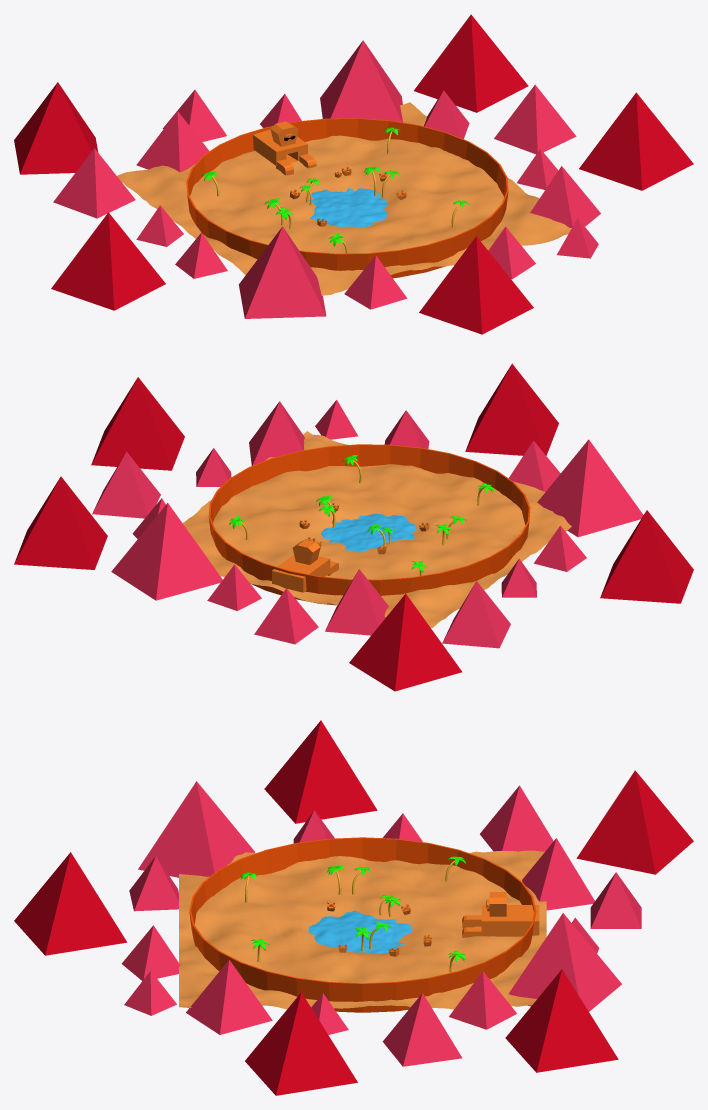
File: Sandparty_Area_Blockout.fbx
3 renders of one model, top to bottom at view 1: azimuth 30°, elevation 25°; view 2: azimuth 150°, elevation 25°; view 3: azimuth 270°, elevation 25°, orthographic. The views are drawn at different scales.
Visible parts, largest first — view 1: SandGrid, CircleFence, Cube.019, Cube.018, Cube.017, Cube.020, Cube.009, Cube.016, Cube.006, Cube.015, Cube.014, WaterGrid (+12 smaller); view 2: SandGrid, CircleFence, Cube.016, Cube.006, Cube.009, Cube.020, Cube.019, Cube.017, Cube.018, Cube.015, Cube.014, Cube.001 (+12 smaller); view 3: SandGrid, CircleFence, Cube.016, Cube.020, Cube.017, Cube.018, Cube.019, Cube.009, Cube.006, Cube.003, Cube.014, WaterGrid (+10 smaller).
Part boxes in pixels (box(x1,y1,x2,y2)): SandGrid: box(117, 102, 571, 295); CircleFence: box(186, 118, 508, 278); Cube.019: box(51, 212, 165, 310); Cube.018: box(419, 236, 533, 334); Cube.017: box(579, 92, 693, 190); Cube.020: box(414, 14, 528, 112); Cube.009: box(239, 226, 326, 318); Cube.016: box(14, 82, 98, 174); Cube.006: box(320, 40, 402, 122); Cube.015: box(53, 148, 135, 218); Cube.014: box(494, 84, 576, 154); WaterGrid: box(309, 188, 388, 227); SandGrid: box(183, 431, 571, 628); CircleFence: box(208, 444, 530, 605); Cube.016: box(349, 593, 462, 691); Cube.006: box(111, 503, 222, 600); Cube.009: box(537, 439, 643, 537); Cube.020: box(14, 476, 107, 569); Cube.019: box(600, 510, 693, 603); Cube.017: box(91, 377, 184, 470); Cube.018: box(465, 363, 558, 455); Cube.015: box(442, 581, 510, 648); Cube.014: box(92, 451, 160, 518); Cube.001: box(325, 569, 388, 635); SandGrid: box(179, 850, 546, 1009); CircleFence: box(189, 837, 536, 1012); Cube.016: box(576, 770, 693, 874); Cube.020: box(505, 969, 618, 1072); Cube.017: box(245, 992, 357, 1095); Cube.018: box(14, 852, 127, 955); Cube.019: box(264, 720, 377, 823); Cube.009: box(138, 781, 254, 877); Cube.006: box(508, 913, 621, 1011); Cube.003: box(186, 959, 272, 1034); Cube.014: box(382, 993, 462, 1066); WaterGrid: box(308, 910, 412, 953).
Size of the model in its own units: 8921 by 1177 by 8011.
